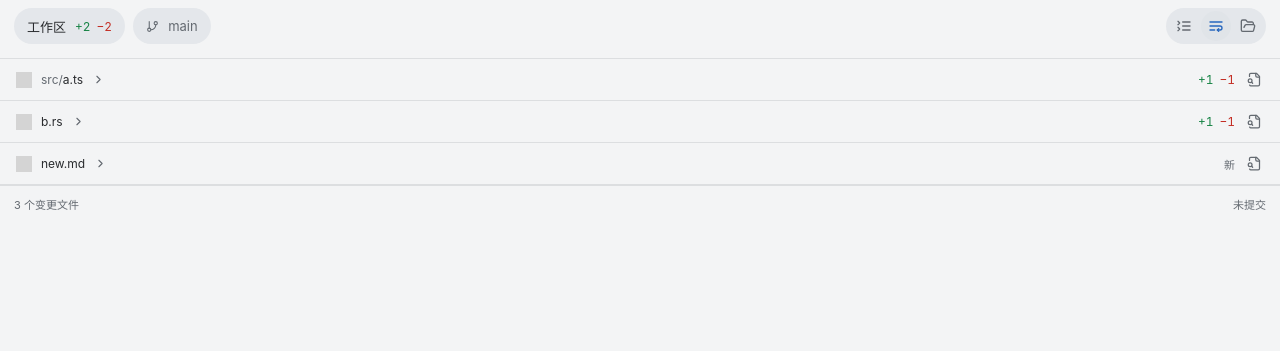
Scenario: renders code only for opened files and folds real hunk context independently
Click the button with aria-label "展开 src/a.ts" at (24, 80), box [12, 68, 1192, 90]
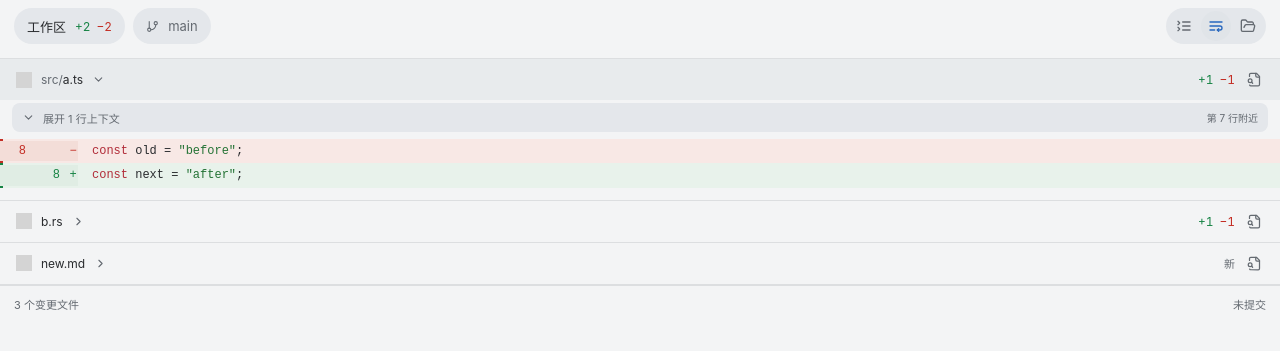
Check: the number of elements with class "change-code-line" is 2, box [0, 139, 1279, 163]; [0, 163, 1279, 188]
Check: the text with class "change-line-number" in the row of "next =" reads "8", box [53, 168, 60, 182]
Check: the text with class "change-line-number" in the row of "old =" reads "8", box [19, 144, 26, 158]
Click the button "展开 1 行上下文 第 7 行附近" at (96, 118), box [22, 110, 1258, 126]
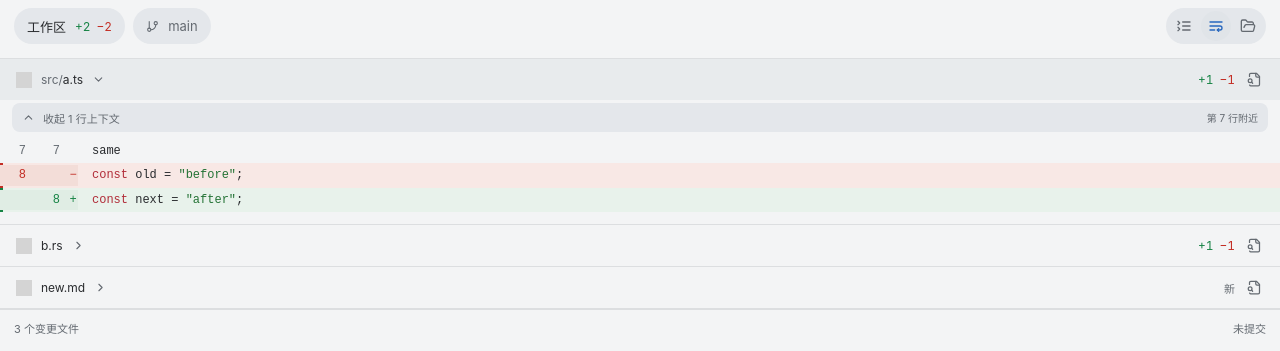
Check: the number of elements with class "change-code-line" is 3, box [19, 144, 121, 158]; [0, 163, 1279, 188]; [0, 188, 1279, 212]
Click the button named "折叠全部文件" at (1184, 26), box [1169, 11, 1199, 41]
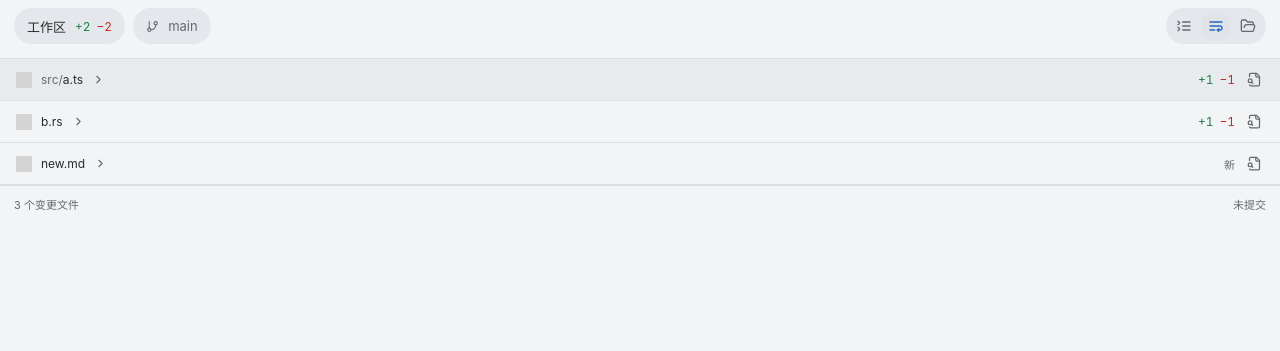
Check: the element with class "change-code-line" is gone
Click the button with aria-label "展开 new.md" at (63, 164), box [12, 152, 1218, 174]
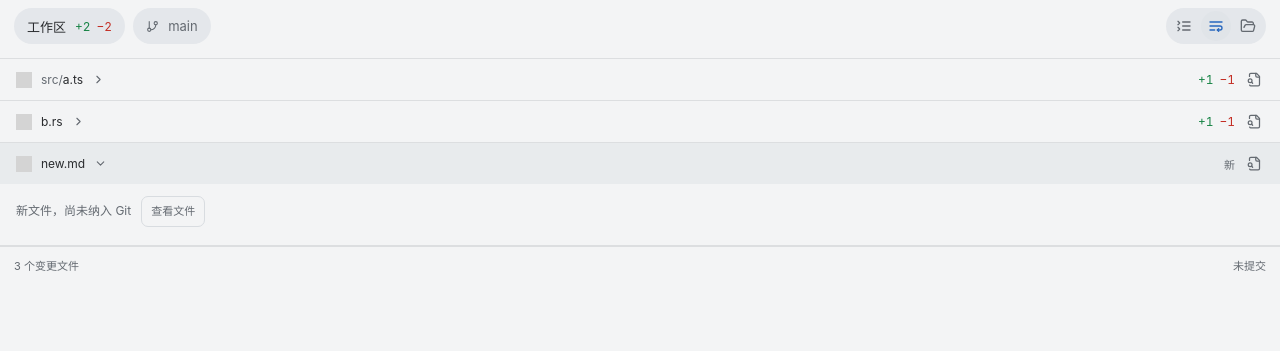
Check: the text "新文件，尚未纳入 Git" is shown, box [16, 201, 131, 222]
